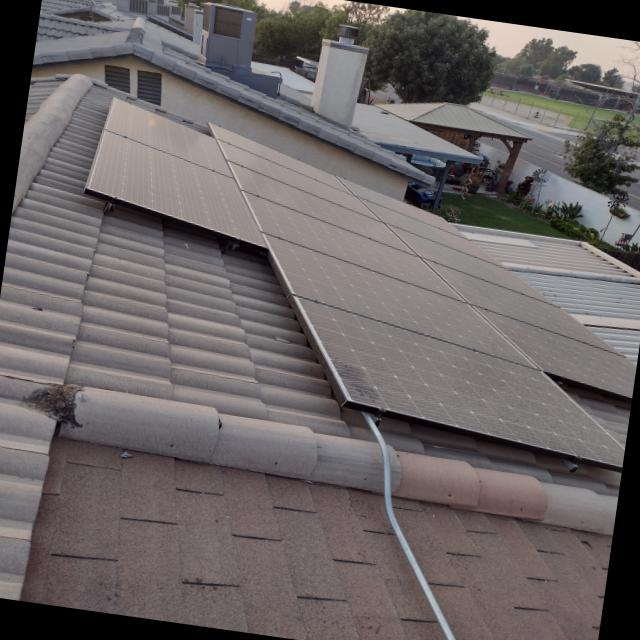faulty: (94, 97, 630, 466)
